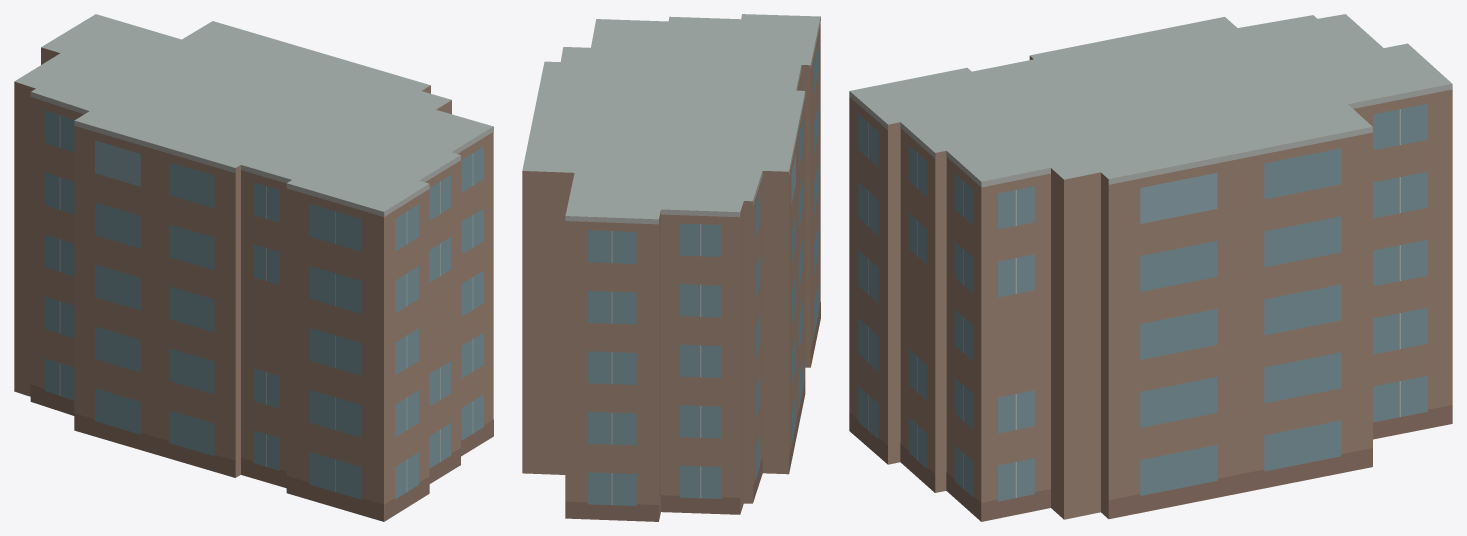
The model's file is survey-upis-32755491.glb.
The picture shows the model from 3 angles, left to right: view 1: azimuth 30°, elevation 25°; view 2: azimuth 150°, elevation 25°; view 3: azimuth 270°, elevation 25°; orthographic projection. The views are drawn at different scales.
Visible parts, largest first — view 1: survey-upis-32755491.tmp; view 2: survey-upis-32755491.tmp; view 3: survey-upis-32755491.tmp.
Part boxes in pixels (left/top/right/bottom): survey-upis-32755491.tmp: left=14, top=14, right=493, bottom=521; survey-upis-32755491.tmp: left=522, top=14, right=820, bottom=521; survey-upis-32755491.tmp: left=849, top=14, right=1452, bottom=521.
Bounding box in the file's own units: 15.57 × 14.7 × 23.64.
